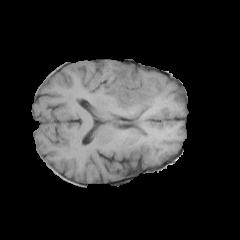glioma: (103, 67, 166, 115)
